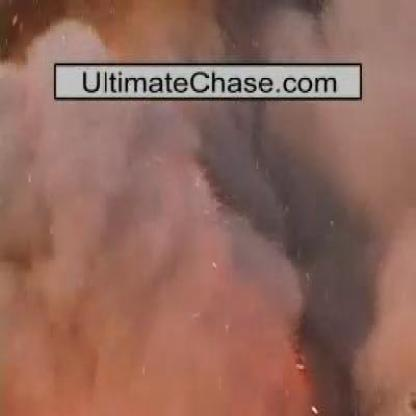-: (14, 106, 377, 366), (53, 0, 357, 62)
